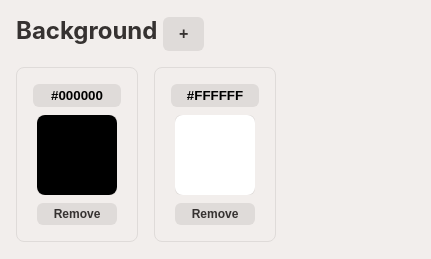
it: BackgroundSection Component › adds a new color when the add button is clicked
Click the button "+" at coordinates (184, 34), box [163,17,204,51]
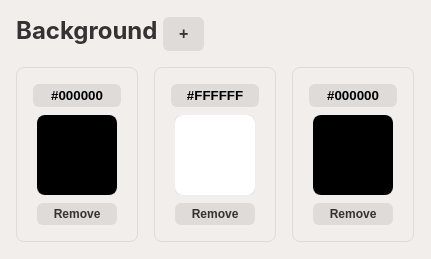
Expected: the number of fields is 3, [33,84,121,107]; [171,84,259,107]; [309,84,397,107]
Expected: the 3rd field named "Hex color code" holds "#000000", [309,84,397,107]
